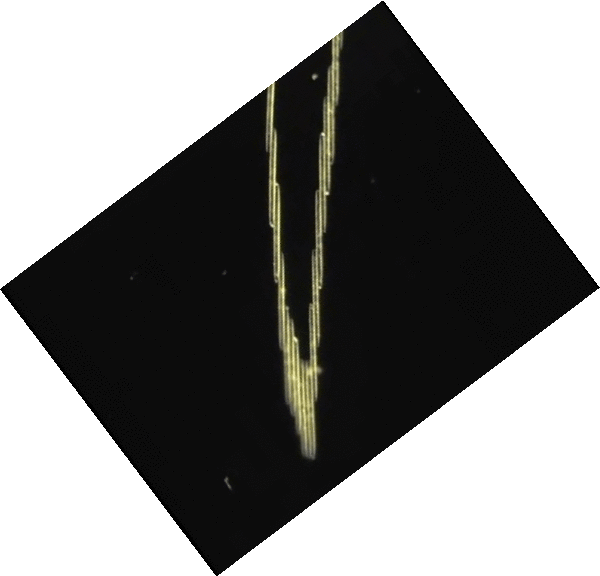bacilleria: (302, 362, 316, 460), (292, 338, 304, 434), (308, 305, 319, 401), (311, 252, 322, 347), (319, 133, 328, 233), (315, 191, 323, 290), (273, 184, 281, 282), (278, 253, 286, 351), (269, 131, 277, 226), (284, 309, 292, 403), (328, 69, 335, 166), (324, 99, 331, 194), (332, 37, 341, 105), (265, 85, 271, 152)
